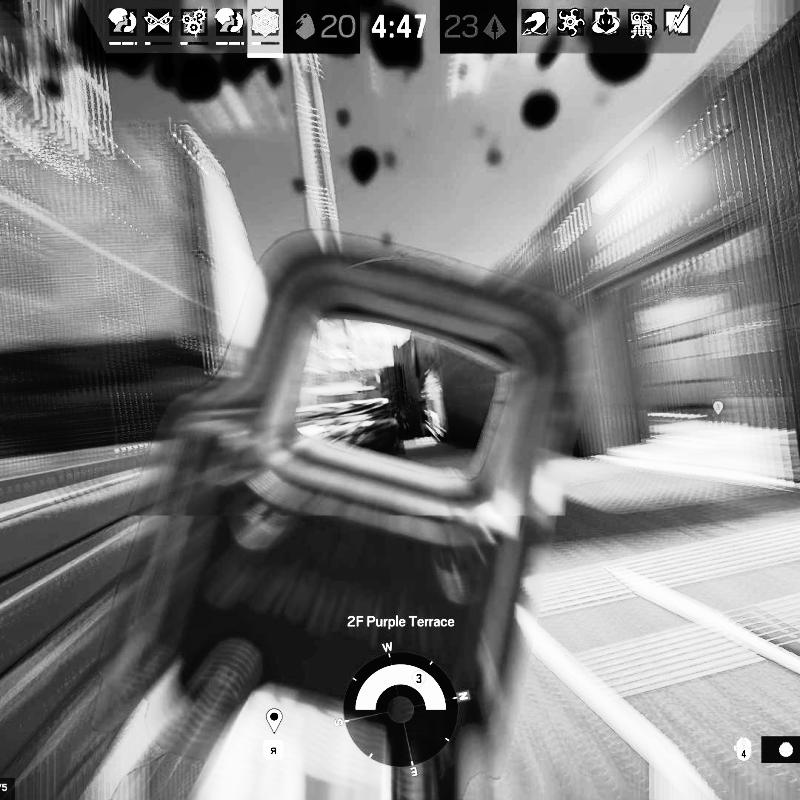Character: (390, 406, 412, 440)
